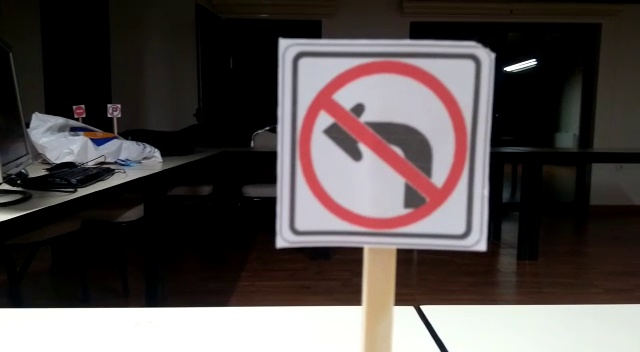sola_donulmez: (279, 40, 494, 245)
